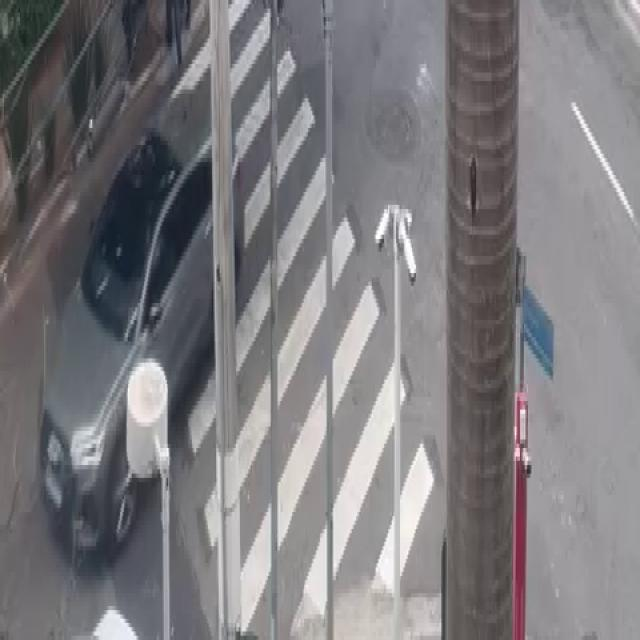car: (35, 99, 248, 540)
